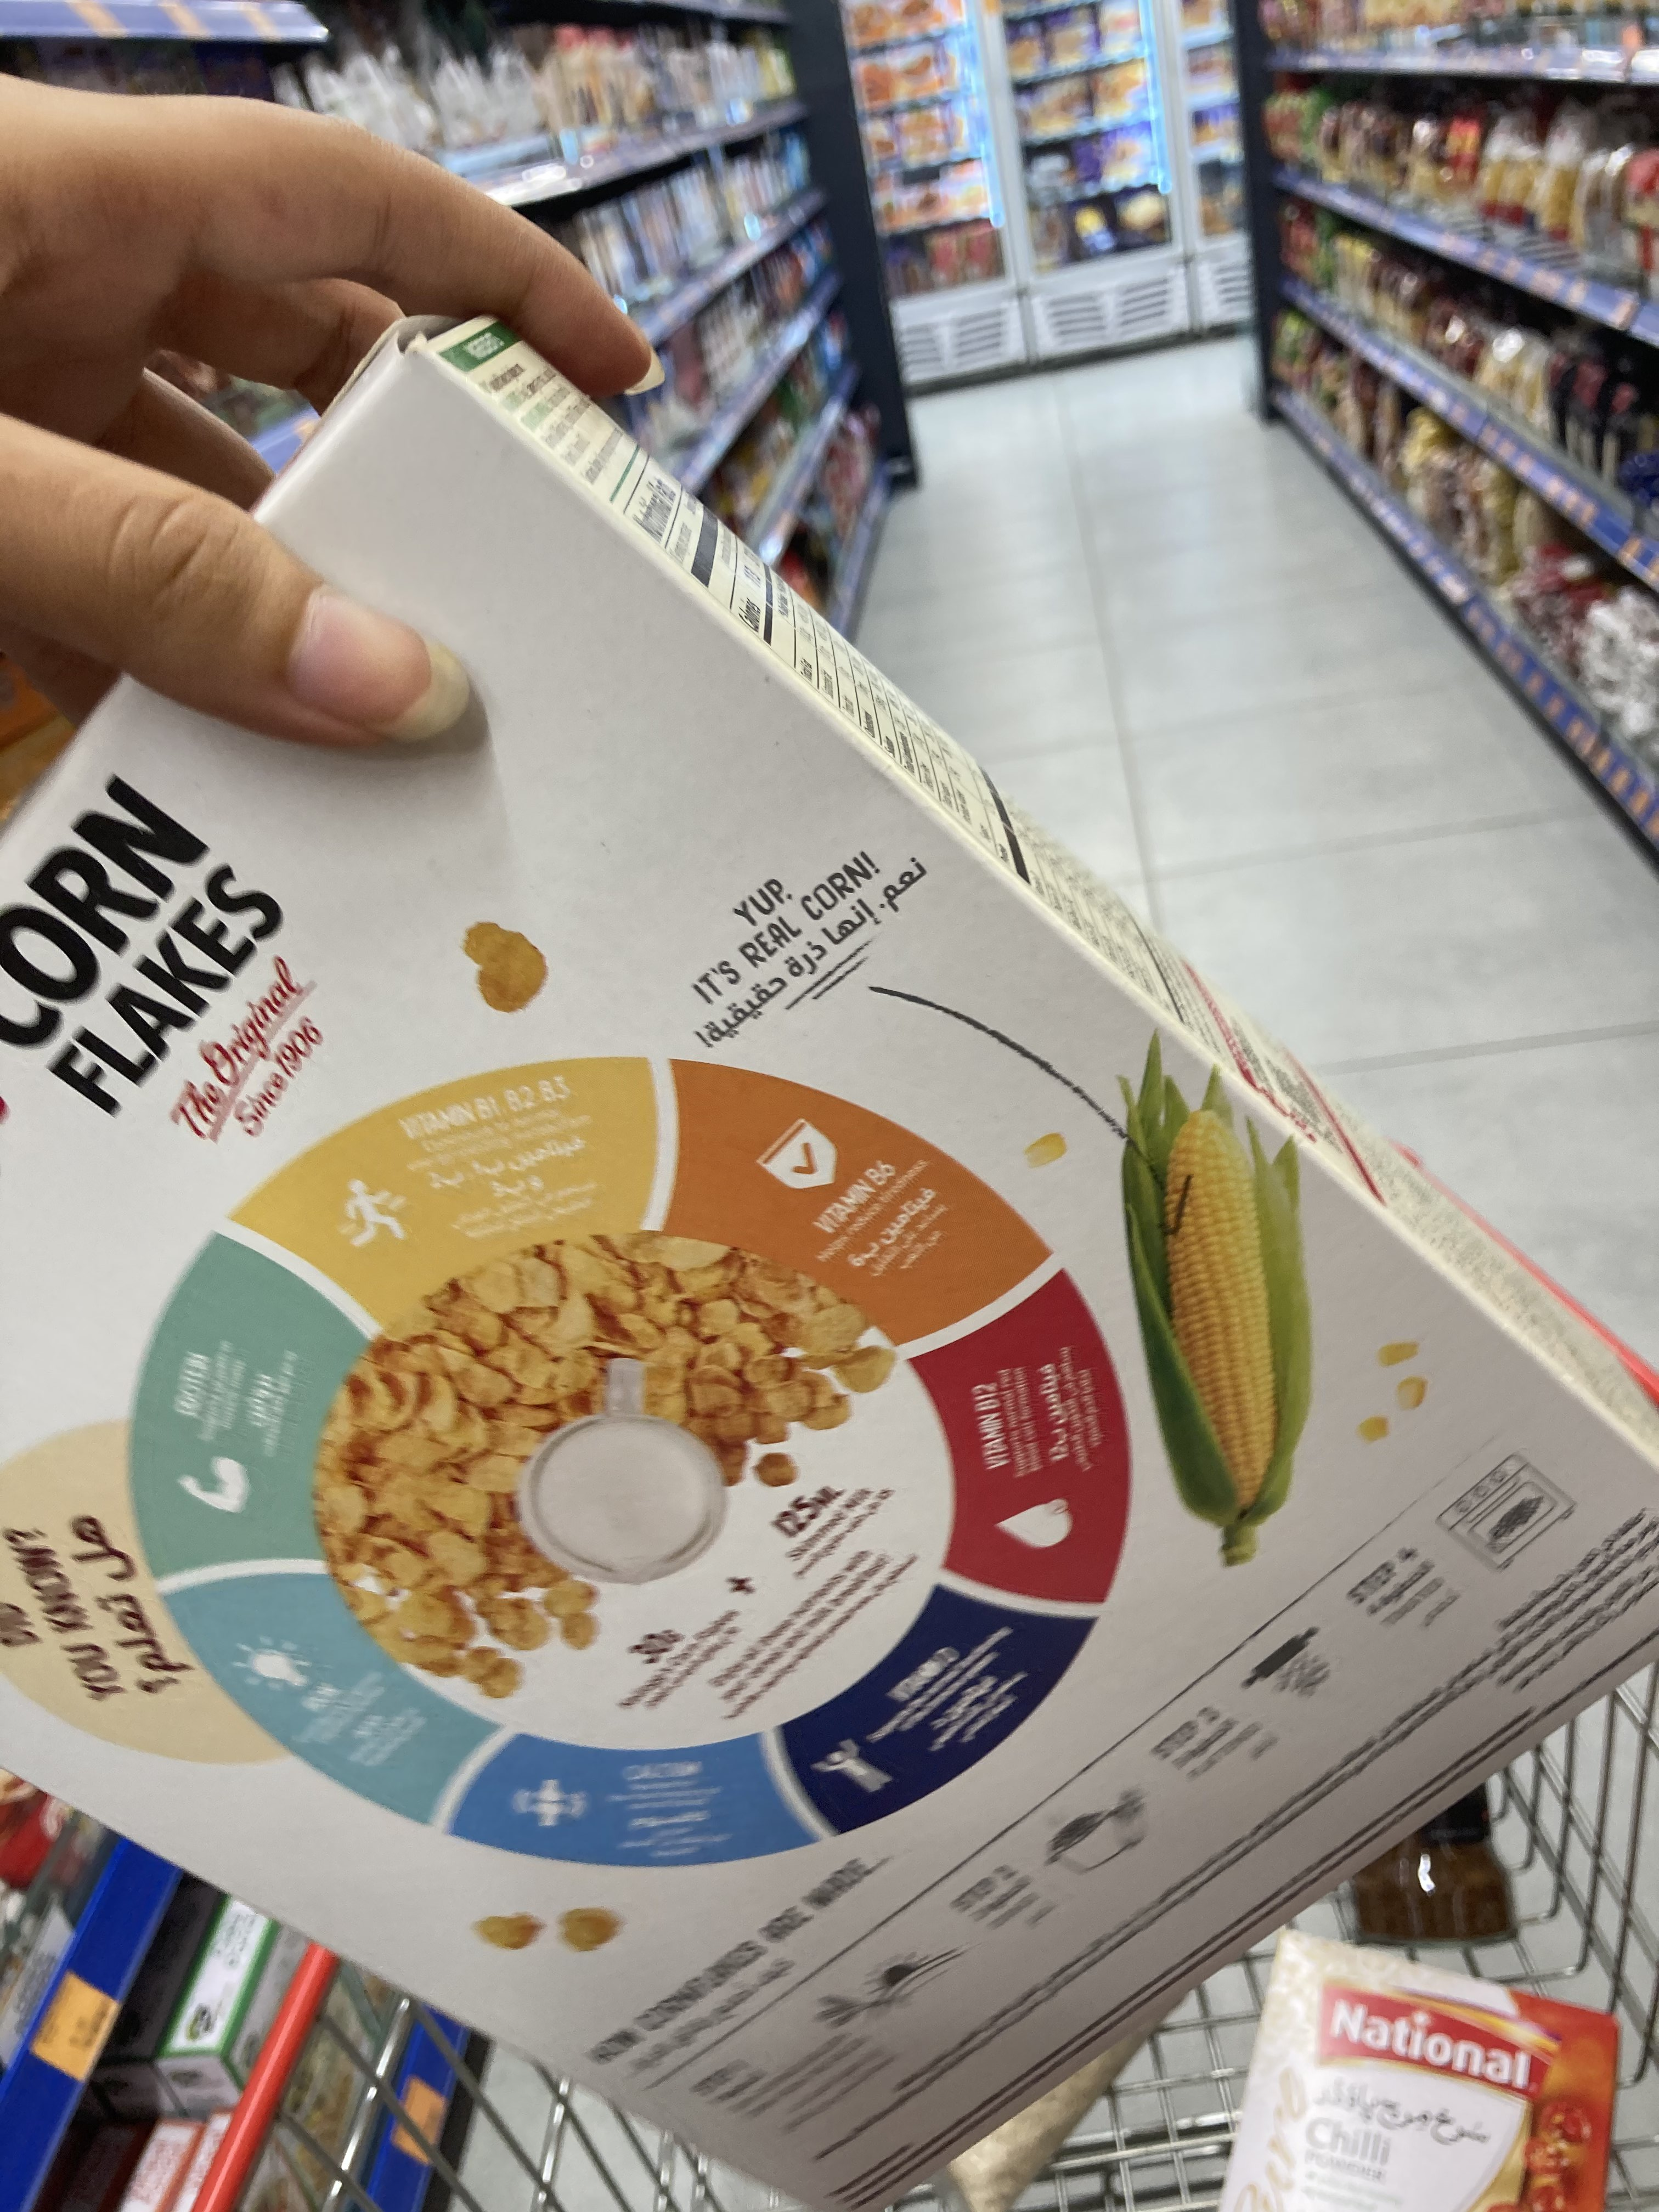Kellogg's Corn Flakes: (5, 320, 1659, 2212)
